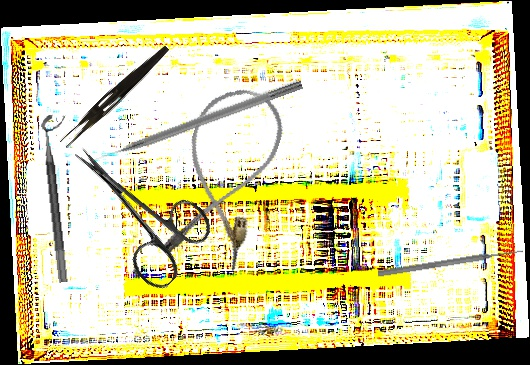Cannula: (155, 77, 293, 276)
Dressing Forceps: (59, 40, 171, 152)
Fixation Ring: (40, 113, 82, 283)
Iris Scissors: (45, 119, 223, 296)
Pusher: (88, 77, 304, 166), (377, 246, 524, 279)
